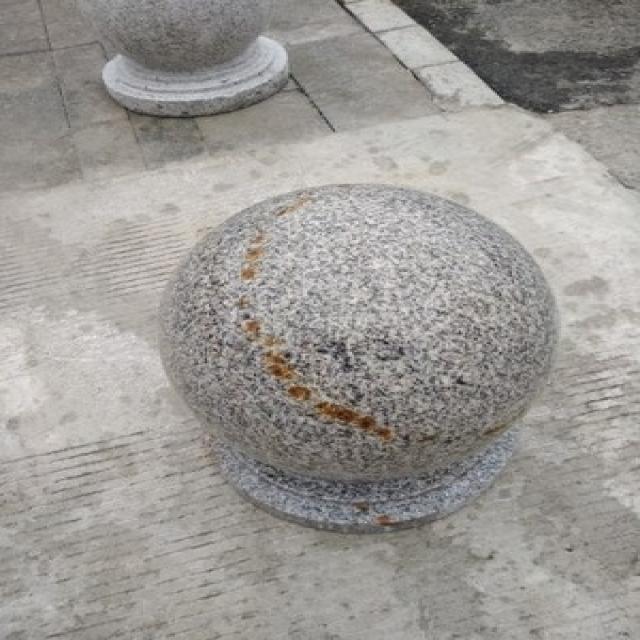spherical_roadblock: (162, 181, 555, 531), (73, 2, 288, 115)
